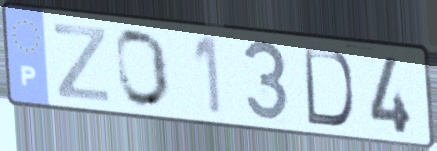1: (189, 32, 224, 119)
3: (240, 36, 293, 127)
4: (366, 52, 416, 137)
D: (301, 44, 357, 130)
O: (113, 26, 174, 111)
Z: (51, 20, 111, 105)
